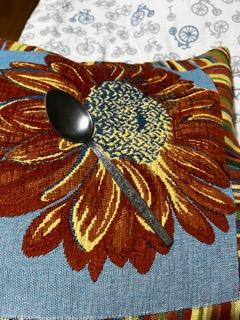spoon: (44, 86, 176, 251)
